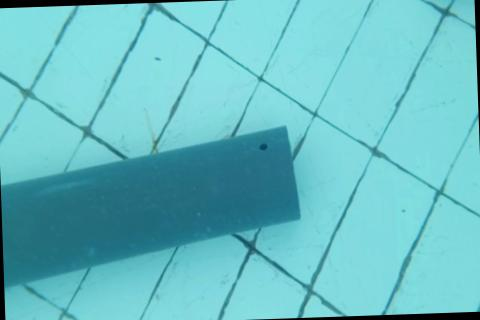kebocoran: (258, 143, 268, 152)
